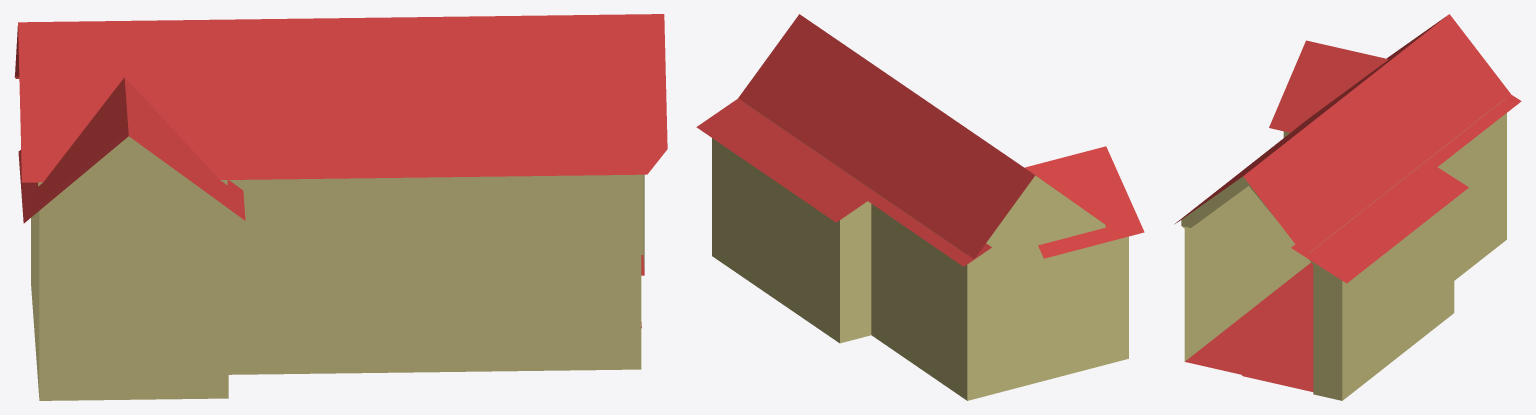
3 renders of one model, left to right at view 1: azimuth 30°, elevation 25°; view 2: azimuth 150°, elevation 25°; view 3: azimuth 270°, elevation 25°, orthographic. The views are drawn at different scales.
Size of the model in its own units: 34.14 by 23.85 by 15.66.
